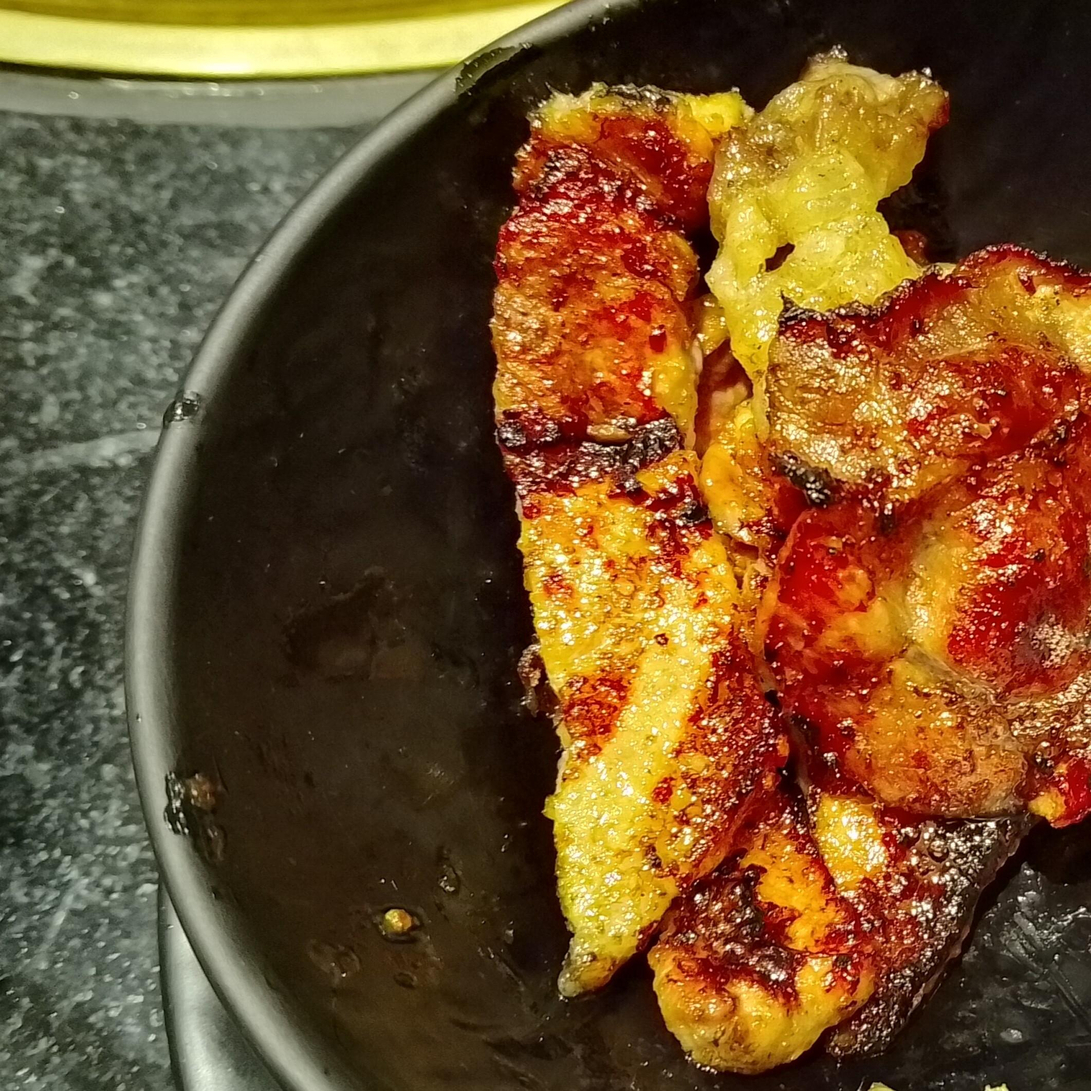Overcooked: (491, 50, 1090, 1074)
